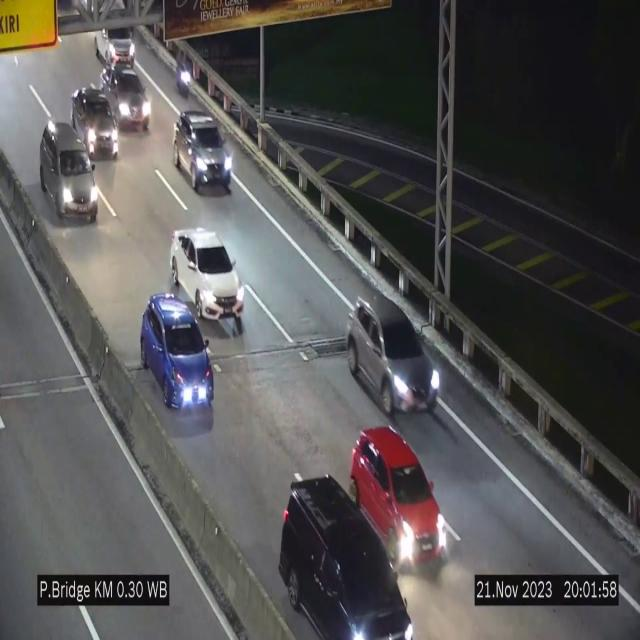Car: (280, 472, 412, 640), (342, 419, 450, 573), (346, 292, 439, 420), (140, 293, 213, 418), (171, 227, 244, 321), (40, 119, 98, 224), (174, 110, 234, 192), (69, 88, 121, 161), (99, 65, 151, 133)
Motorcycle: (174, 46, 192, 103)
